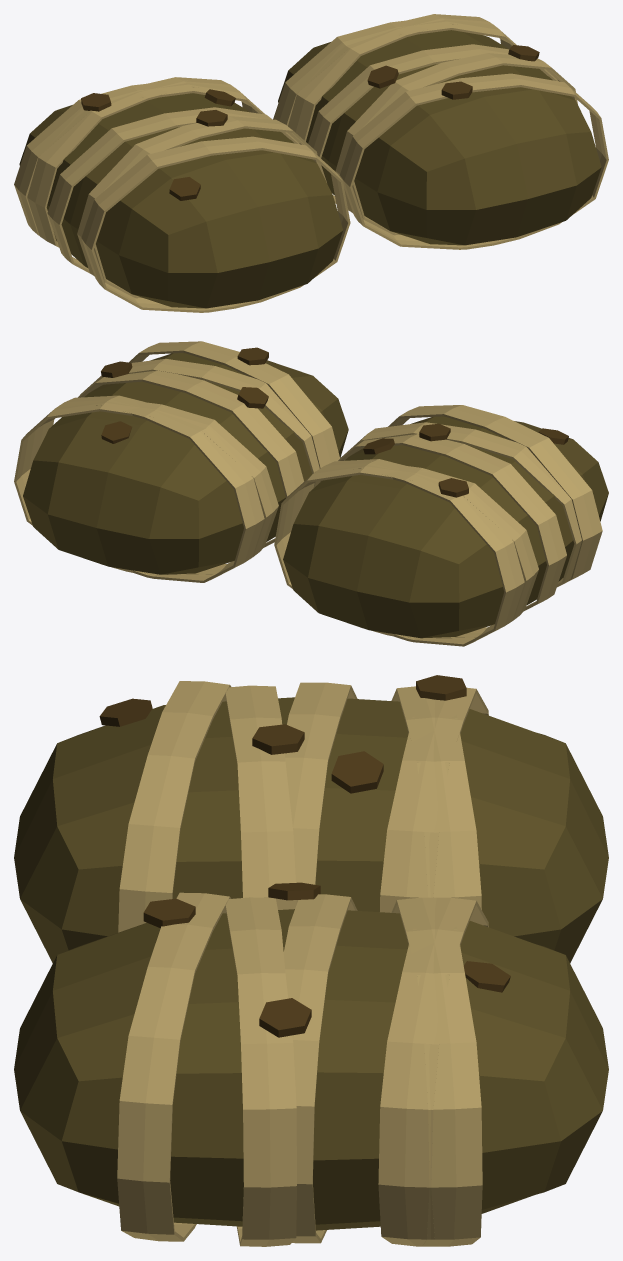
Rendered from Pinangat na gabi.fbx.
3 views of the same model, one above another, from view 1: azimuth 30°, elevation 25°; view 2: azimuth 150°, elevation 25°; view 3: azimuth 270°, elevation 25° (orthographic). The views are drawn at different scales.
Visible parts, largest first — view 1: Pinangat na Gabi; view 2: Pinangat na Gabi; view 3: Pinangat na Gabi.
Boxes of the visible parts, <box> form: Pinangat na Gabi: <box>14,14,608,312</box>; Pinangat na Gabi: <box>14,341,608,646</box>; Pinangat na Gabi: <box>14,675,608,1246</box>.
Size of the model in its own units: 72.95 by 22.63 by 44.45.
